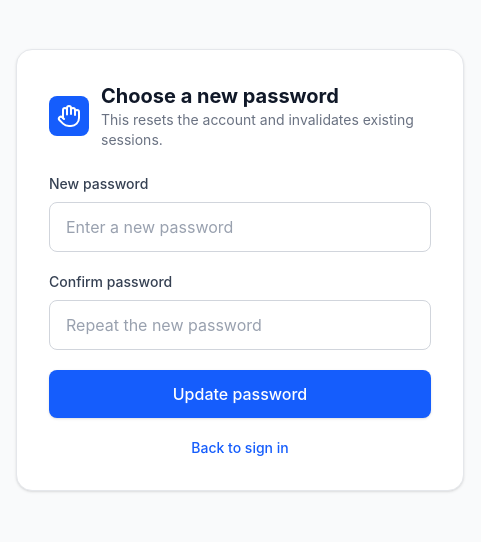
Test: ResetPasswordPage › submits the reset token and new password
Type "newsecret" into the password field labelled "New password" at (240, 227), box [49, 202, 431, 252]
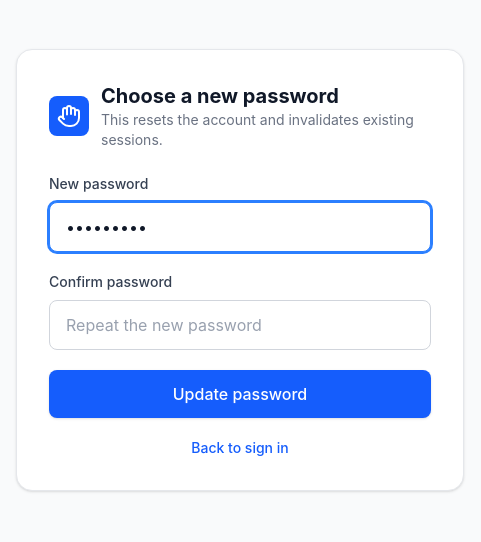
Type "newsecret" into the password field labelled "Confirm password" at (240, 325), box [49, 300, 431, 350]
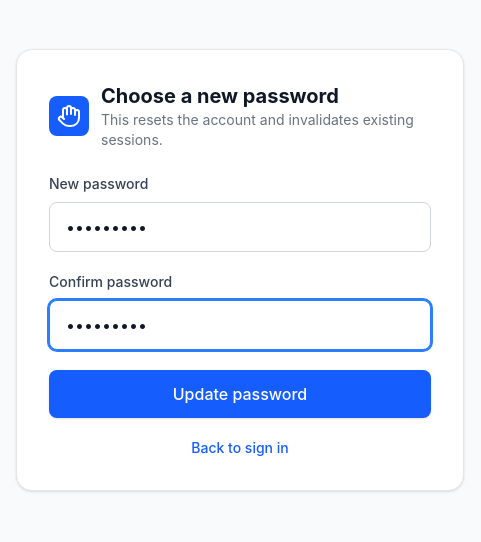
Click the button "Update password" at (240, 394), box [49, 370, 431, 418]
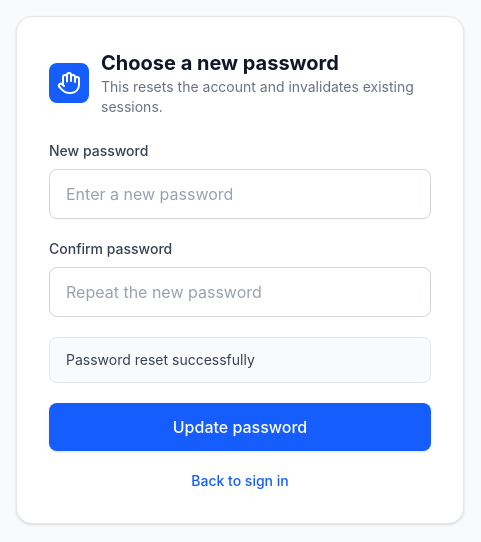
Now the text "Password reset successfully" is shown, box [49, 337, 431, 383]
